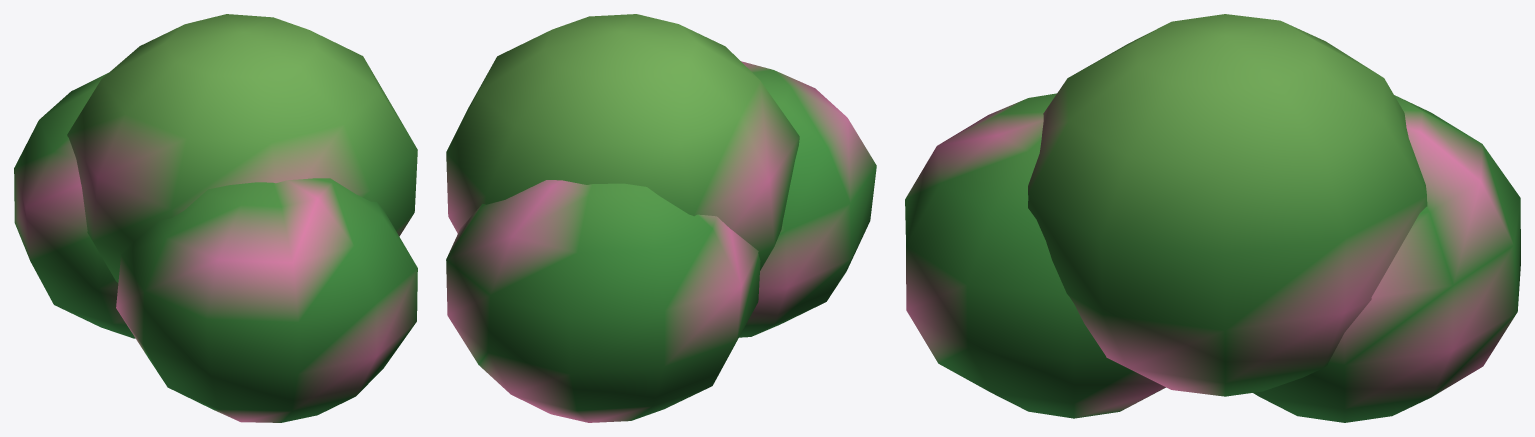
The model's file is tufa_2.glb.
The picture shows the model from 3 angles, left to right: view 1: azimuth 30°, elevation 25°; view 2: azimuth 150°, elevation 25°; view 3: azimuth 270°, elevation 25°; orthographic projection. The views are drawn at different scales.
Parts seen in each view (by area): view 1: tufa_2; view 2: tufa_2; view 3: tufa_2.
Part boxes in pixels (box(x1,y1,x2,y2)): tufa_2: box(14, 14, 417, 422); tufa_2: box(446, 14, 876, 422); tufa_2: box(905, 14, 1520, 422).
Bounding box in the file's own units: 0.7823 × 0.761 × 1.1.
